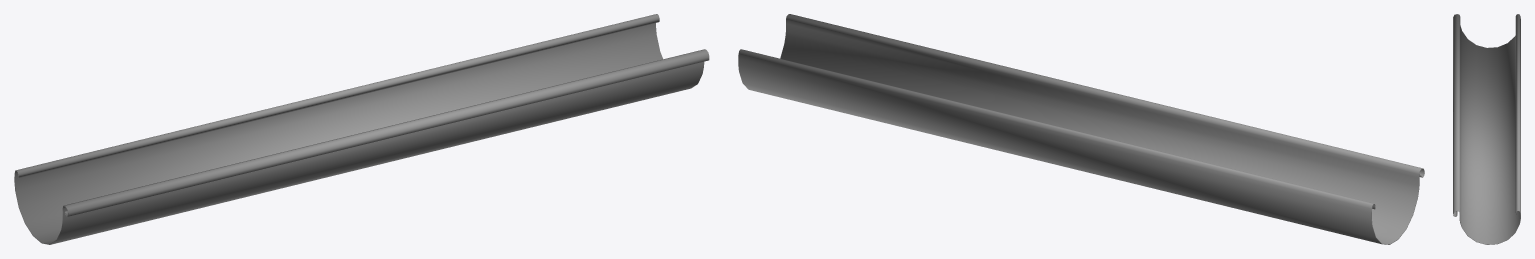
The model's file is pipe_horisontal.glb.
The picture shows the model from 3 angles, left to right: view 1: azimuth 30°, elevation 25°; view 2: azimuth 150°, elevation 25°; view 3: azimuth 270°, elevation 25°; orthographic projection. The views are drawn at different scales.
Visible parts, largest first — view 1: pipe_horisontal; view 2: pipe_horisontal; view 3: pipe_horisontal.
Part boxes in pixels (left/top/right/bottom): pipe_horisontal: left=14, top=14, right=709, bottom=244; pipe_horisontal: left=738, top=14, right=1424, bottom=244; pipe_horisontal: left=1453, top=14, right=1520, bottom=244.
Bounding box in the file's own units: 1000 × 81.44 × 145.
1 material, 1 textured.
